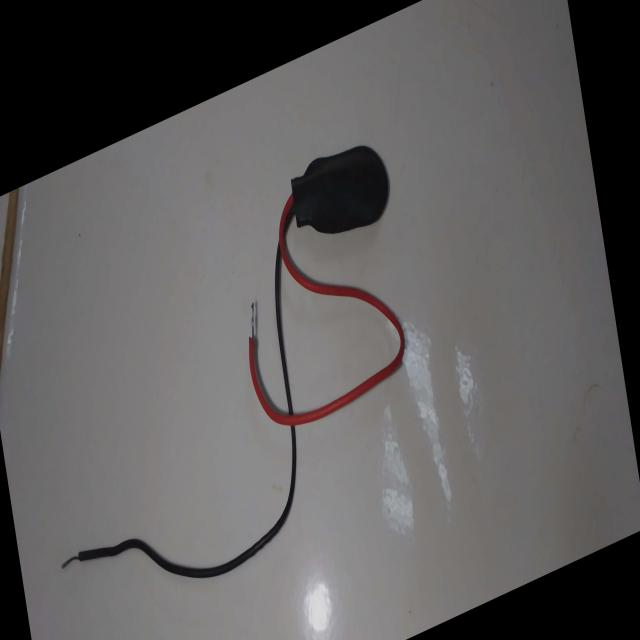Battery Holder: (218, 106, 424, 460)
